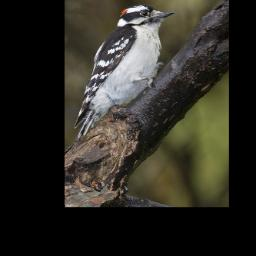Woodpecker: (74, 4, 176, 144)
